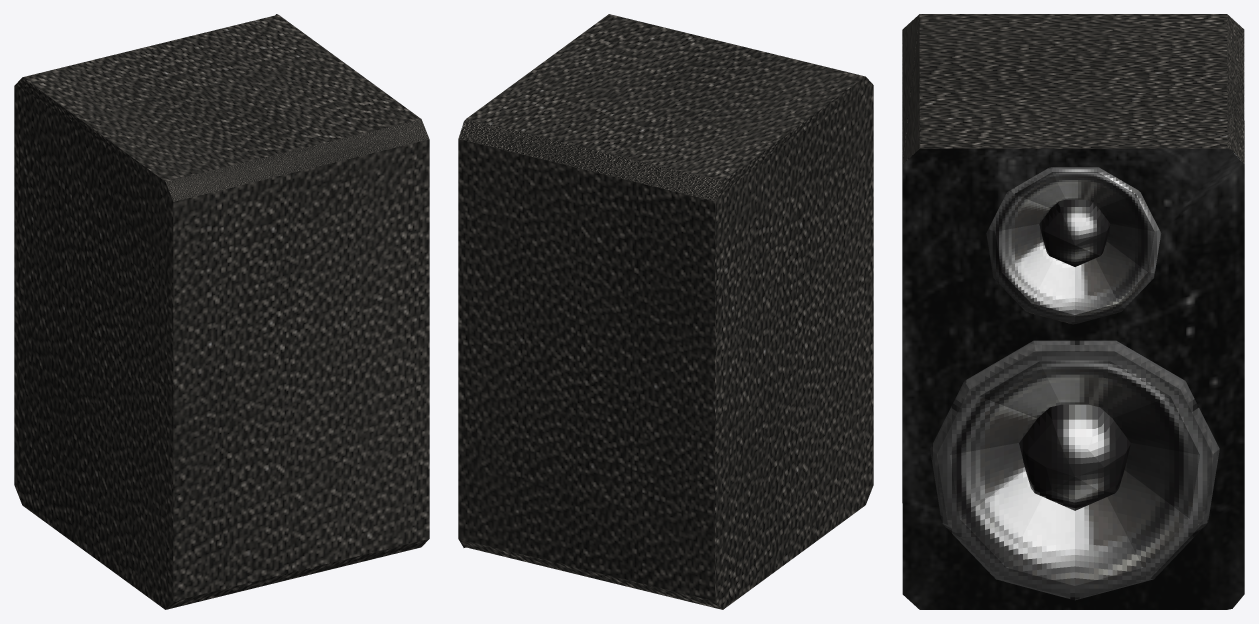
Rendered from speaker.glb.
3 renders of one model, left to right at view 1: azimuth 30°, elevation 25°; view 2: azimuth 150°, elevation 25°; view 3: azimuth 270°, elevation 25°, orthographic. The views are drawn at different scales.
Parts seen in each view (by area): view 1: polySurface11; view 2: polySurface11; view 3: polySurface11.
Boxes of the visible parts, left/top/right/bottom form: polySurface11: left=14, top=14, right=429, bottom=609; polySurface11: left=458, top=14, right=873, bottom=609; polySurface11: left=902, top=14, right=1244, bottom=609.
Bounding box in the file's own units: 0.9936 × 1.53 × 1.03.
2 materials, 2 textured.
